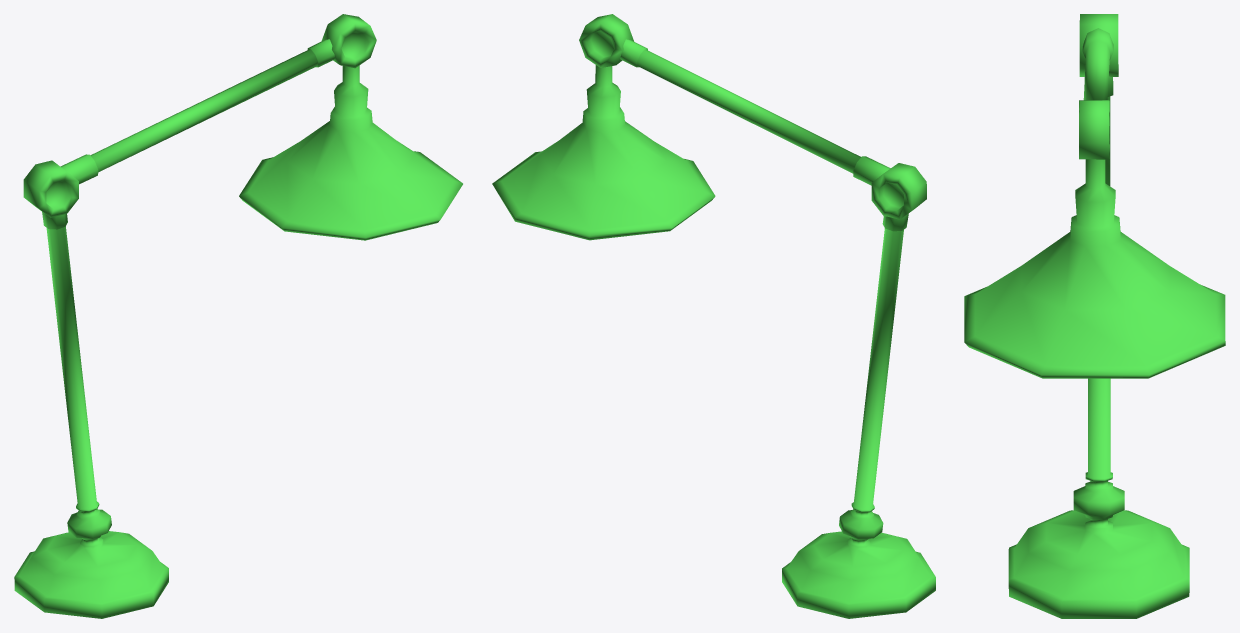
File: f_LampeBureau.fbx
The picture shows the model from 3 angles, left to right: view 1: azimuth 30°, elevation 25°; view 2: azimuth 150°, elevation 25°; view 3: azimuth 270°, elevation 25°; orthographic projection. The views are drawn at different scales.
Parts seen in each view (by area): view 1: Lampe_LD; view 2: Lampe_LD; view 3: Lampe_LD.
Boxes of the visible parts, bbox=[...] form: Lampe_LD: bbox=[14, 14, 462, 618]; Lampe_LD: bbox=[492, 14, 935, 618]; Lampe_LD: bbox=[964, 14, 1225, 618].
Bounding box in the file's own units: 69.63 × 82.13 × 30.61.
